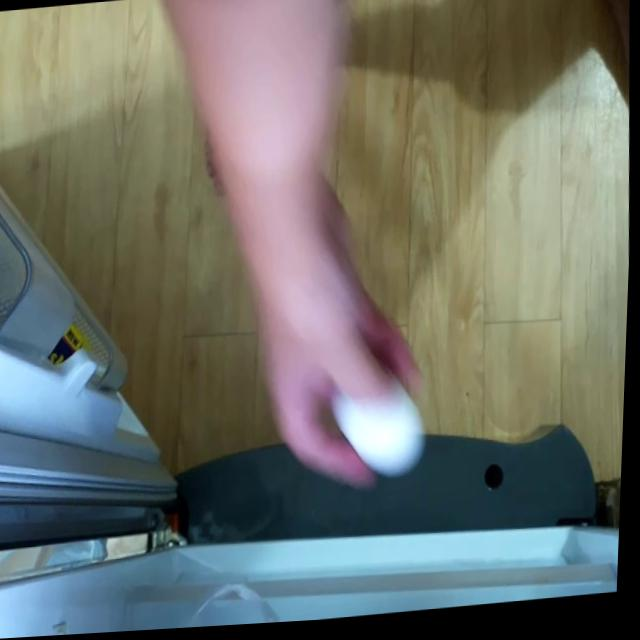egg: (330, 381, 435, 492)
